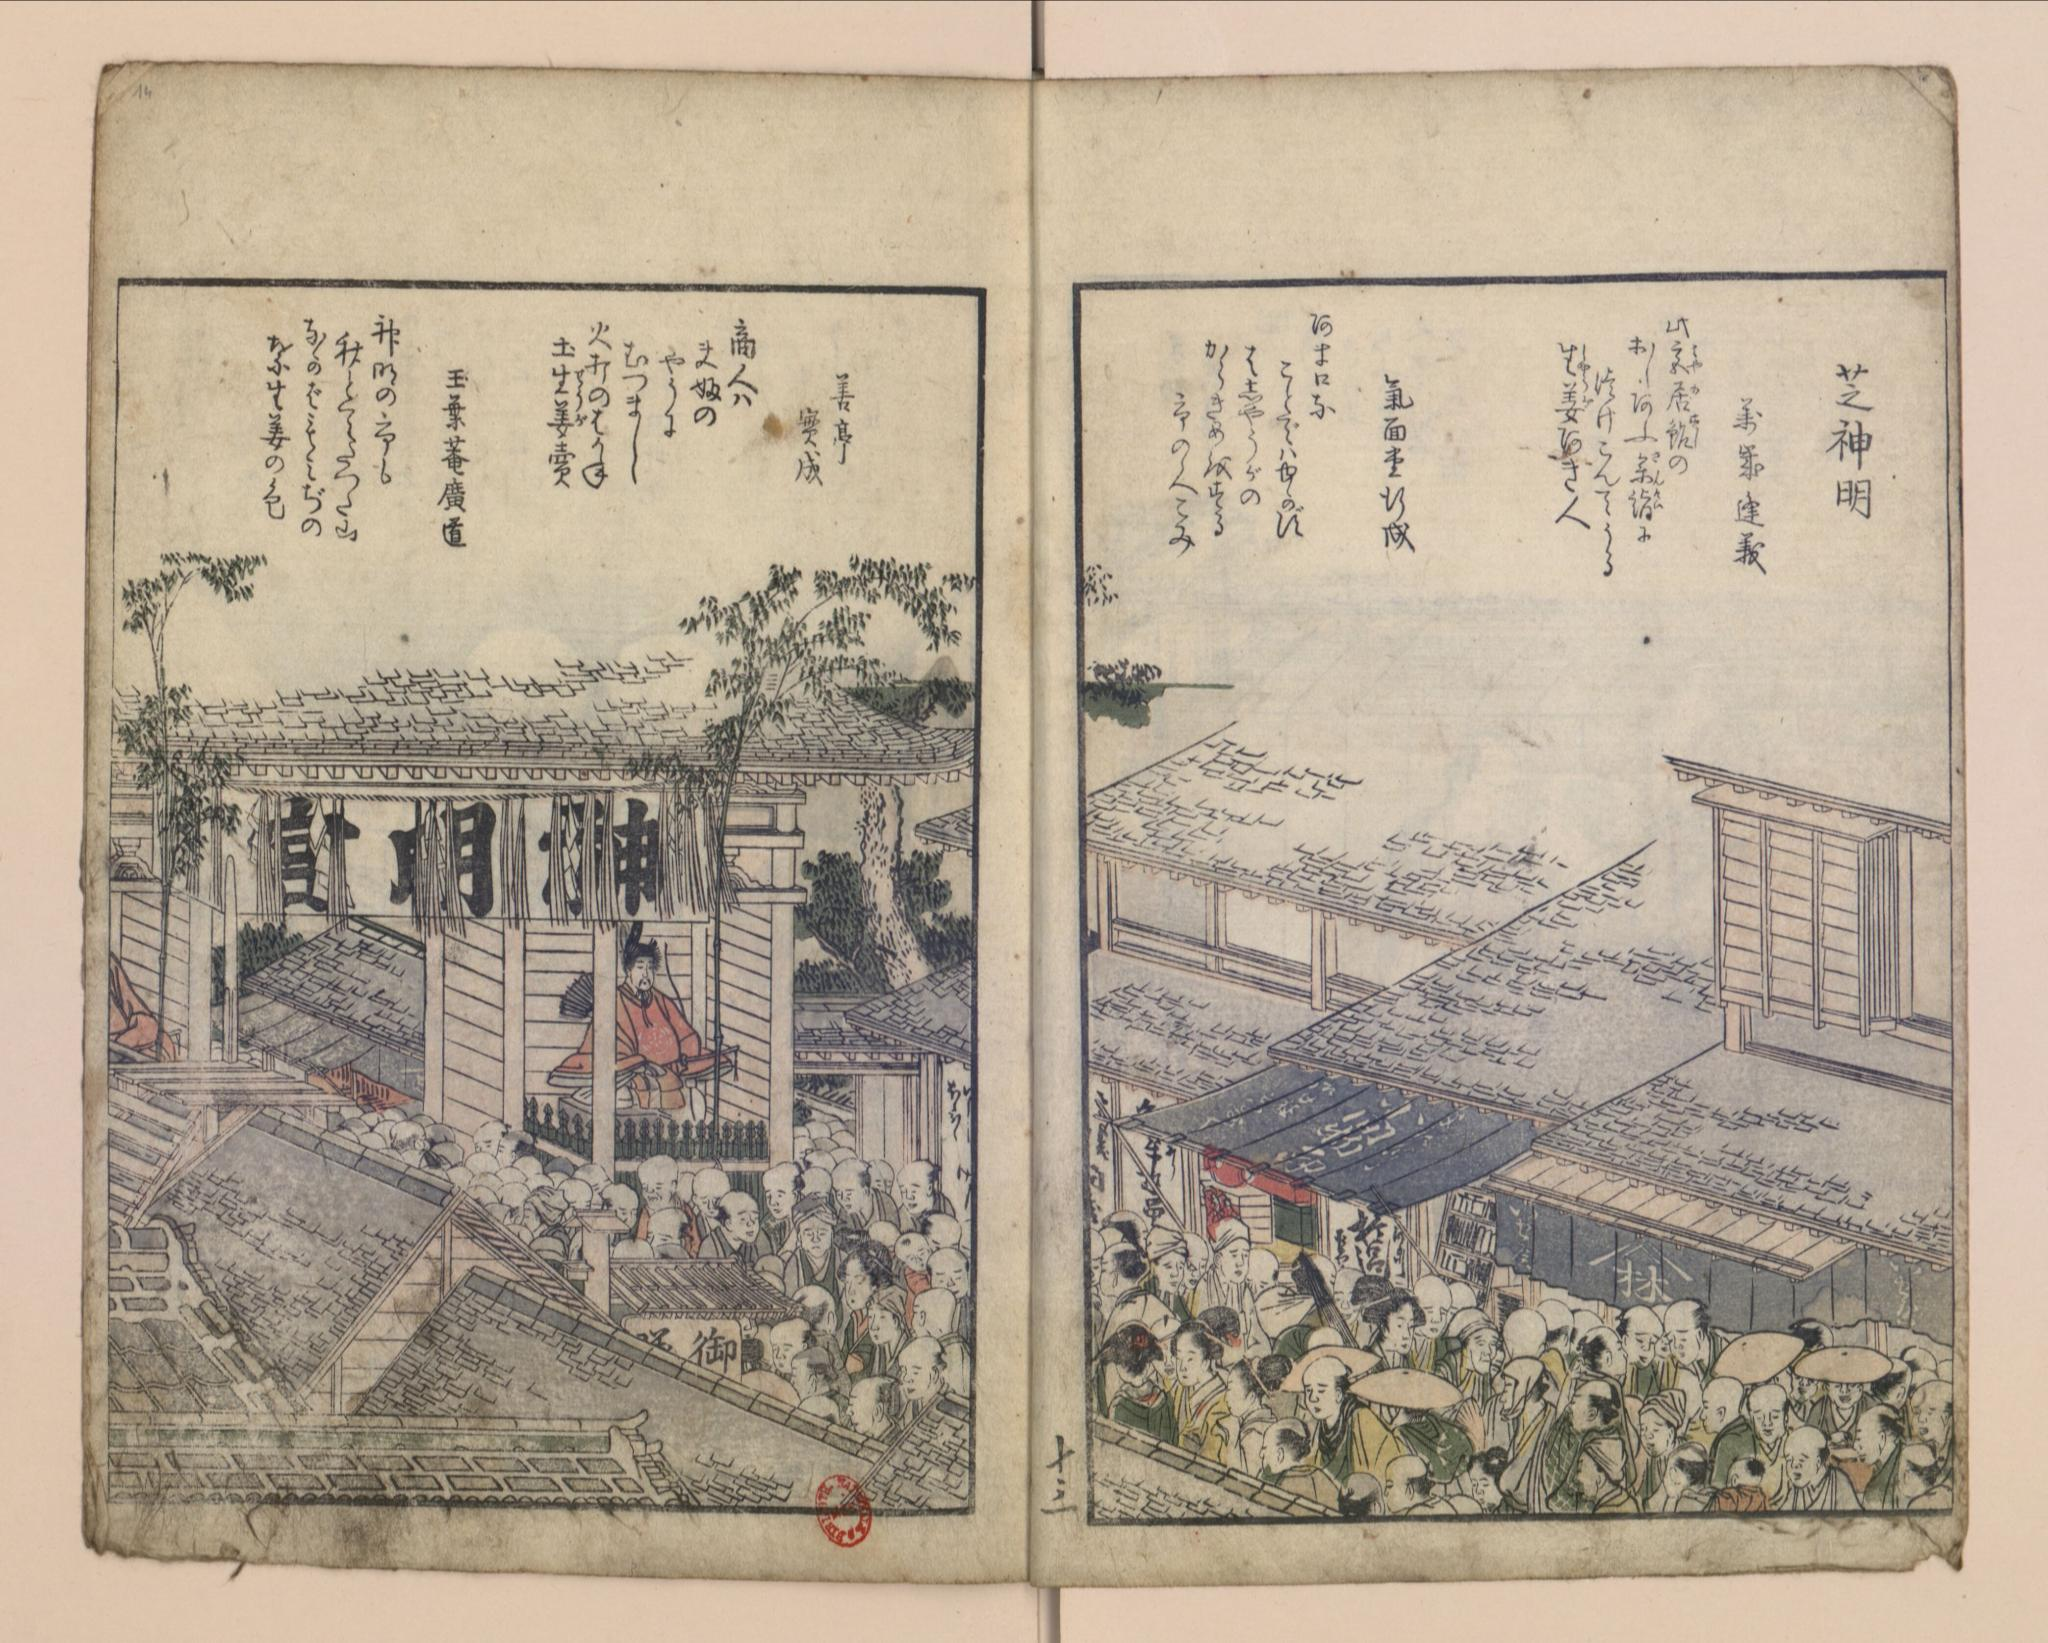MainZone-Character: (1549, 335, 1594, 392), (546, 362, 588, 412), (1554, 381, 1595, 429), (545, 396, 592, 438), (1664, 411, 1704, 449), (1626, 488, 1669, 523), (1664, 340, 1708, 374), (1631, 451, 1666, 485), (1666, 379, 1703, 409)
MainZone-Ruby: (1579, 340, 1590, 389), (573, 369, 587, 407), (1688, 342, 1704, 371), (1651, 451, 1664, 485), (1688, 412, 1701, 444), (1652, 488, 1666, 511), (573, 414, 590, 428), (1689, 379, 1701, 397), (1580, 394, 1595, 407)
